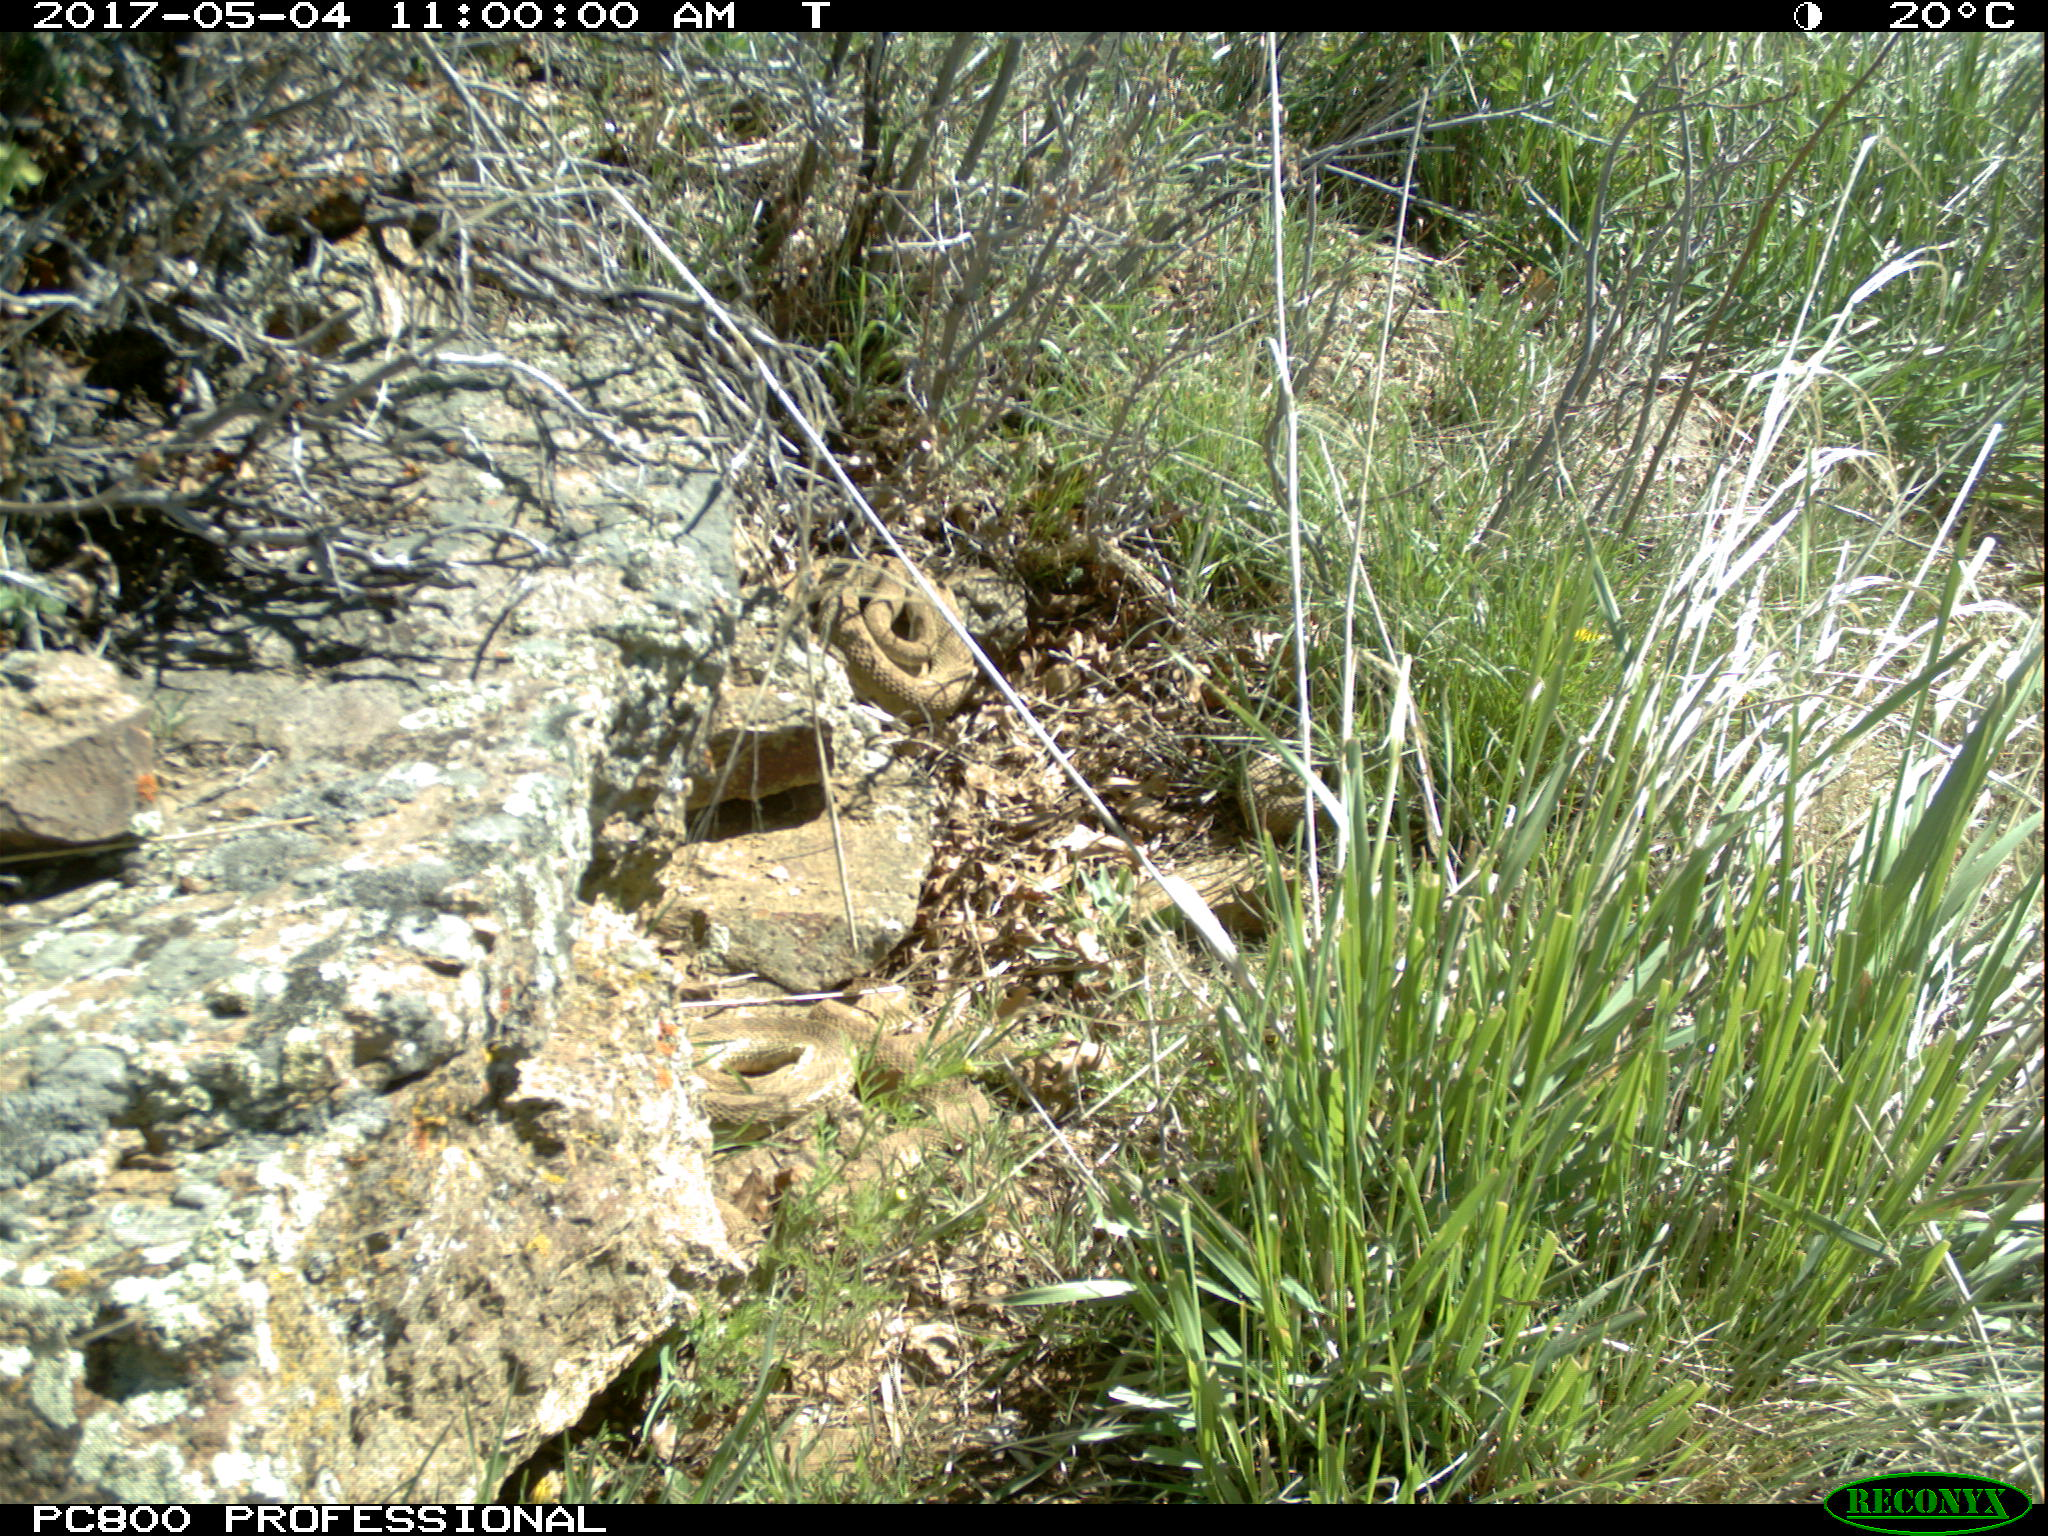snake: (687, 992, 976, 1125), (822, 549, 989, 716), (1237, 752, 1335, 841)
